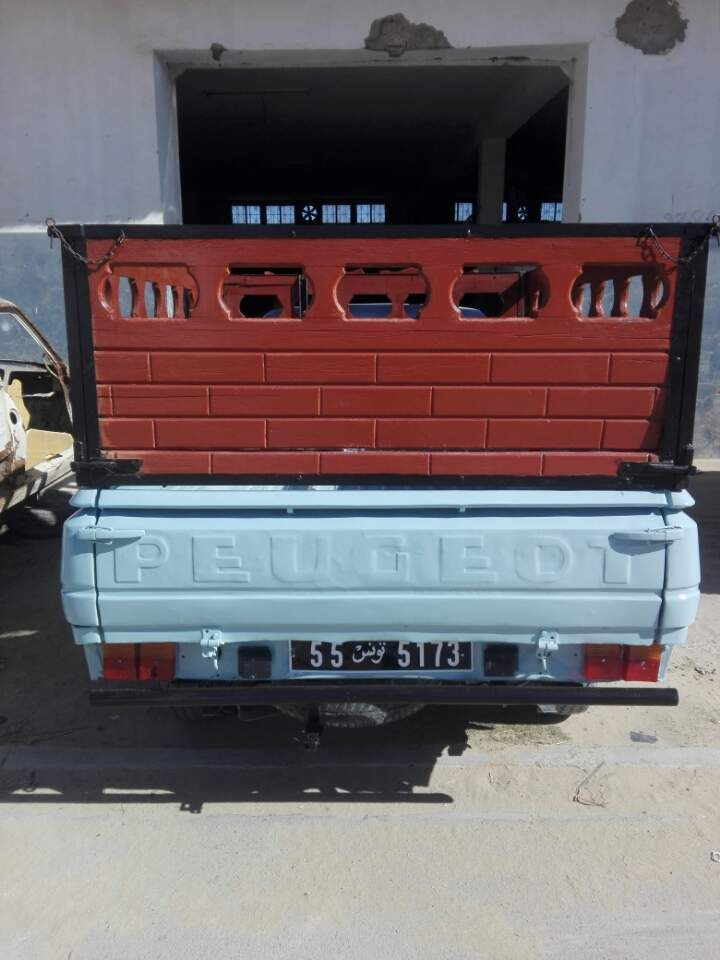LP: (289, 636, 476, 673)
